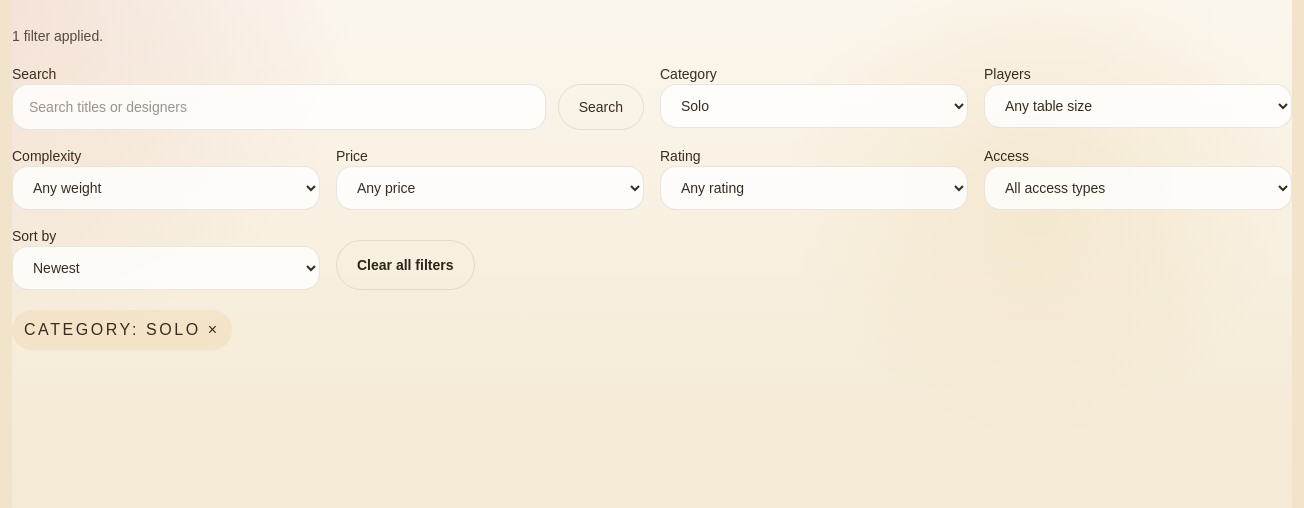
Test: MarketplaceFilterForm › explains when a filter change returns the catalog to page 1
Select "Free" in the dropdown labelled "Price" at (490, 188), box 336,166 -> 644,210
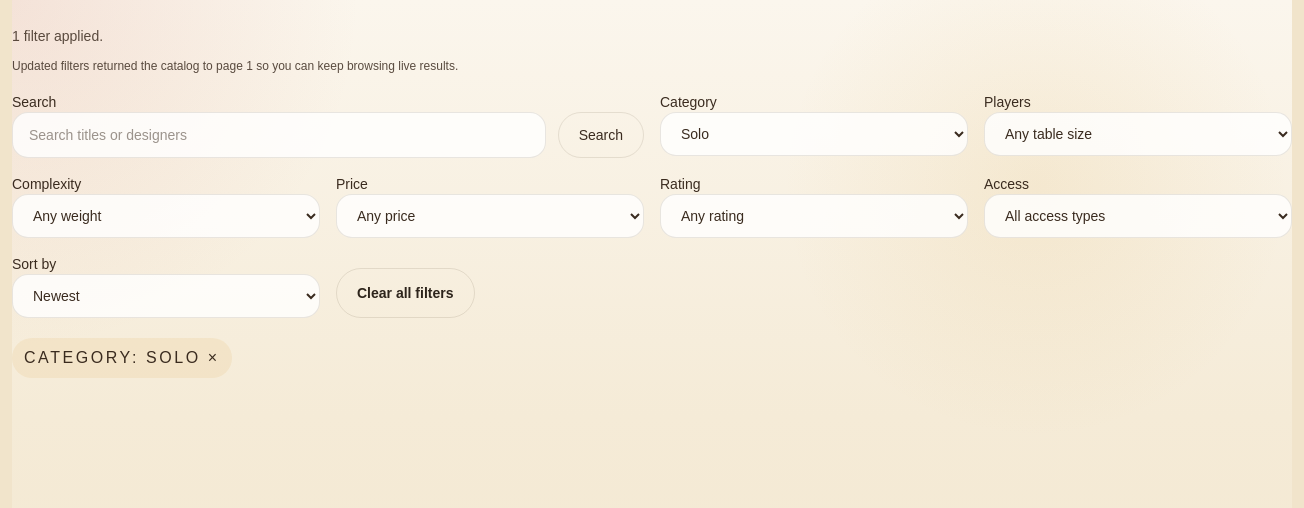
Now the text "returned the catalog to page 1" is shown, box 12,59 -> 458,73
